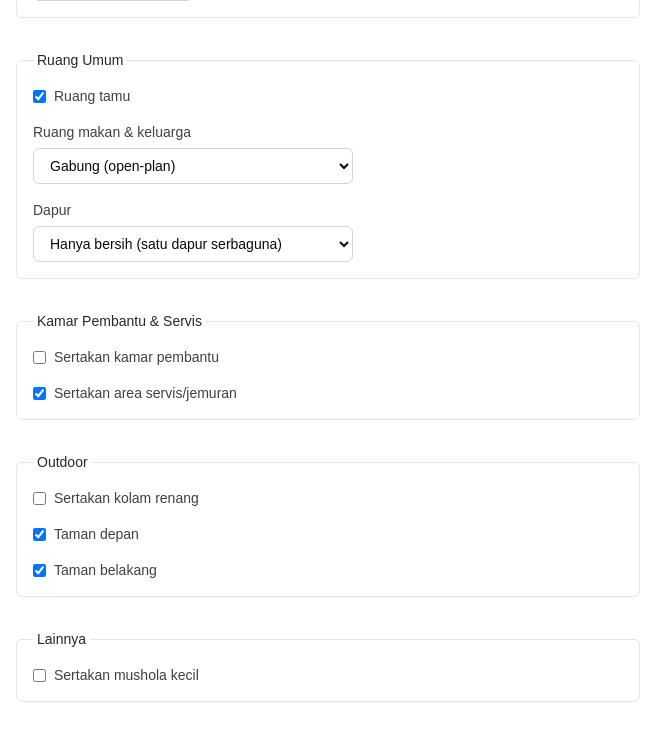
ProgramRuangStepPage › shows 'sertakan KM pembantu' only once kamar pembantu is checked
The image size is (657, 741).
(page scrolled)
Expected: the text "sertakan km pembantu" is not shown
Click the text "Sertakan kamar pembantu": (126, 357) [33,349,219,365]
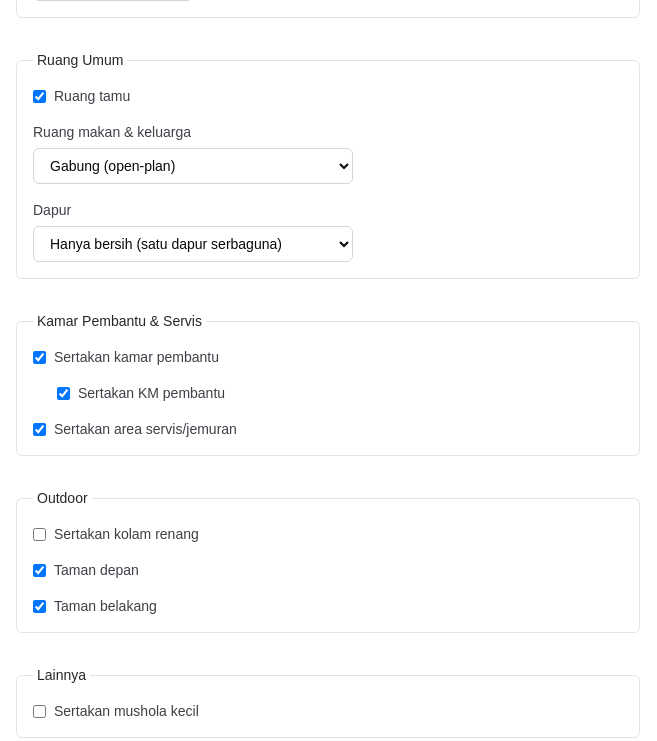
Expected: the text "Sertakan KM pembantu" is shown, [57,385,225,401]
